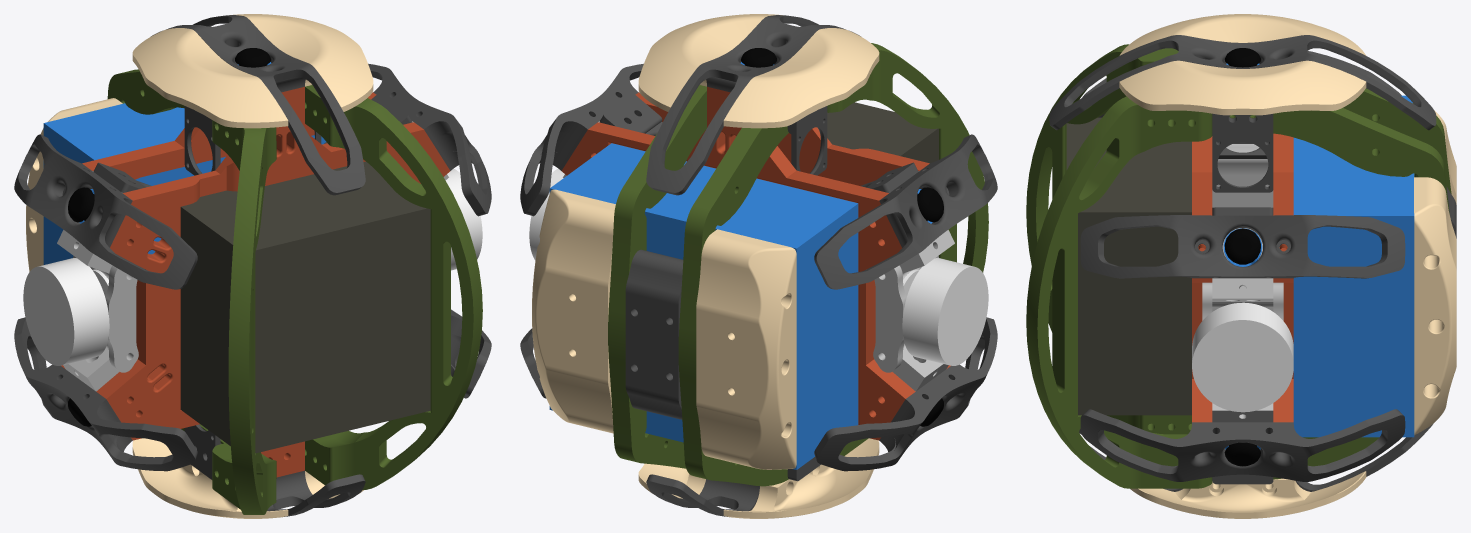
The model's file is egg.glb.
3 renders of one model, left to right at view 1: azimuth 30°, elevation 25°; view 2: azimuth 150°, elevation 25°; view 3: azimuth 270°, elevation 25°, orthographic.
Parts seen in each view (by area): view 1: Solid1 (×26); view 2: Solid1 (×28); view 3: Solid1 (×25).
Boxes of the visible parts, x1,y1,x2,y2 form: Solid1 (×26): (14,14,491,518); Solid1 (×28): (520,14,997,518); Solid1 (×25): (1026,14,1456,518).
Size of the model in its own units: 0.2315 by 0.237 by 0.2114.
